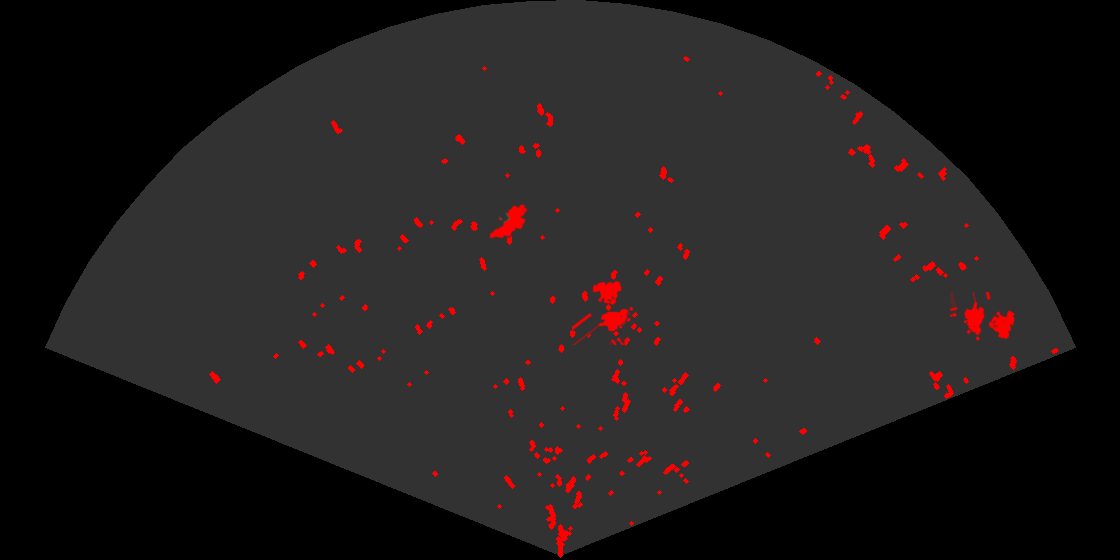AUV: (488, 203, 529, 240)
cage: (572, 279, 635, 345), (950, 292, 1016, 343)
